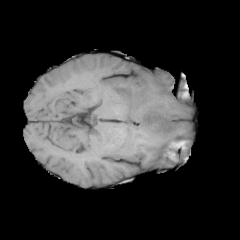glioma: (109, 74, 191, 143)
